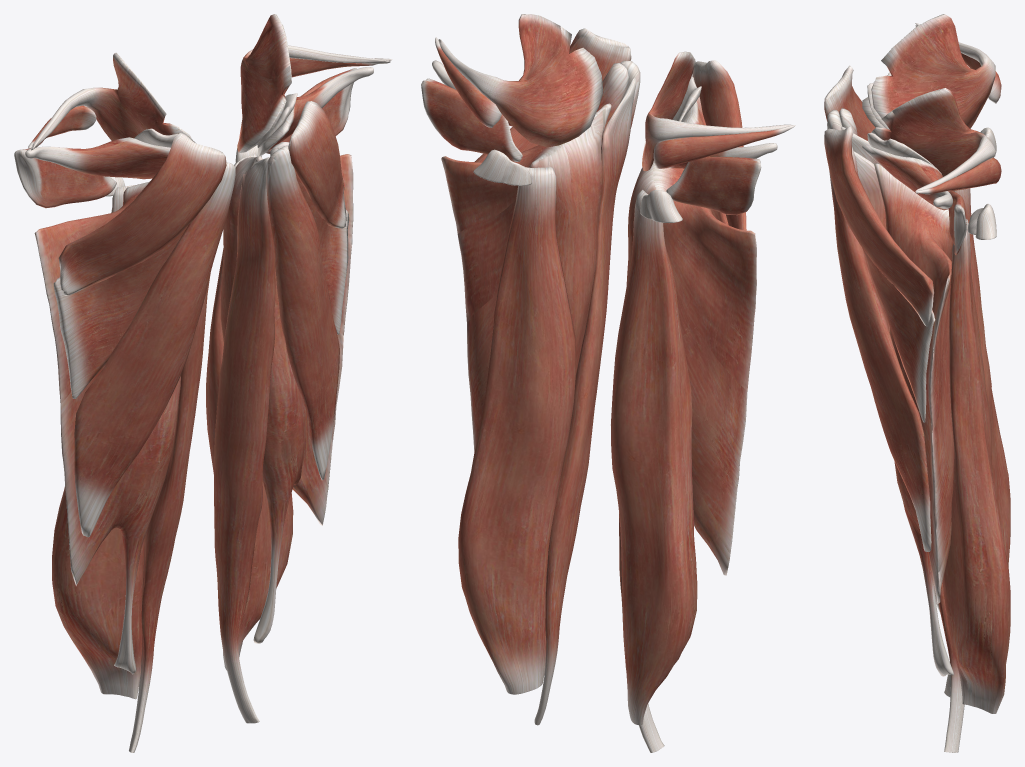
File: hip_attach_s124_male_muscles.glb
3 views of the same model, side by side, from view 1: azimuth 30°, elevation 25°; view 2: azimuth 150°, elevation 25°; view 3: azimuth 270°, elevation 25° (orthographic). The views are drawn at different scales.
Parts seen in each view (by area): view 1: Gracilis muscle.l, Adductor longus.r, Adductor magnus.r, Adductor longus.l, Adductor magnus.l, Pectineus muscle.r, Semimembranosus muscle.r, Gracilis muscle.r, Adductor brevis.r, Obturator internus.l, Semimembranosus muscle.l, Obturator internus.r (+8 smaller); view 2: Semimembranosus muscle.l, Semimembranosus muscle.r, Adductor magnus.r, Adductor magnus.l, Gracilis muscle.l, Obturator internus.l, Quadratus femoris muscle.r, Quadratus femoris muscle.l, Obturator internus.r, Pectineus muscle.r, Inferior gemellus muscle.r, Pectineus muscle.l (+6 smaller); view 3: Semimembranosus muscle.l, Adductor magnus.l, Adductor longus.l, Obturator internus.r, Pectineus muscle.l, Obturator internus.l, Adductor brevis.l, Semimembranosus muscle.r, Gracilis muscle.l, Obturator externus.l, Pectineus muscle.r, Inferior gemellus muscle.l (+5 smaller).
Boxes of the visible parts, x1,y1,x2,y2 form: Gracilis muscle.l: (214, 157, 275, 723); Adductor longus.r: (74, 162, 235, 537); Adductor magnus.r: (34, 181, 180, 674); Adductor longus.l: (266, 145, 339, 480); Adductor magnus.l: (220, 154, 353, 643); Pectineus muscle.r: (58, 132, 226, 295); Semimembranosus muscle.r: (52, 185, 144, 699); Gracilis muscle.r: (129, 273, 210, 752); Adductor brevis.r: (53, 226, 187, 398); Obturator internus.l: (237, 14, 390, 152); Semimembranosus muscle.l: (206, 153, 293, 670); Obturator internus.r: (30, 52, 192, 150); Semimembranosus muscle.l: (458, 166, 575, 694); Semimembranosus muscle.r: (611, 189, 697, 725); Adductor magnus.r: (626, 161, 756, 575); Adductor magnus.l: (441, 103, 611, 451); Gracilis muscle.l: (534, 78, 635, 725); Obturator internus.l: (438, 14, 601, 147); Quadratus femoris muscle.r: (666, 156, 761, 215); Quadratus femoris muscle.l: (421, 78, 522, 161); Obturator internus.r: (642, 51, 792, 170); Pectineus muscle.r: (692, 60, 746, 230); Inferior gemellus muscle.r: (653, 125, 795, 168); Pectineus muscle.l: (474, 28, 631, 162); Semimembranosus muscle.l: (942, 219, 1010, 713); Adductor magnus.l: (874, 163, 954, 676); Adductor longus.l: (829, 171, 931, 551); Obturator internus.r: (871, 14, 995, 129); Pectineus muscle.l: (824, 126, 934, 326); Obturator internus.l: (871, 88, 995, 193); Adductor brevis.l: (852, 147, 935, 422); Semimembranosus muscle.r: (953, 188, 1010, 565); Gracilis muscle.l: (854, 151, 964, 752); Obturator externus.l: (862, 145, 952, 210); Pectineus muscle.r: (824, 65, 875, 140); Inferior gemellus muscle.l: (915, 157, 1001, 194).
Size of the model in its own units: 0.2585 by 0.4807 by 0.1206.
Materials: 5 (5 with a texture image).
